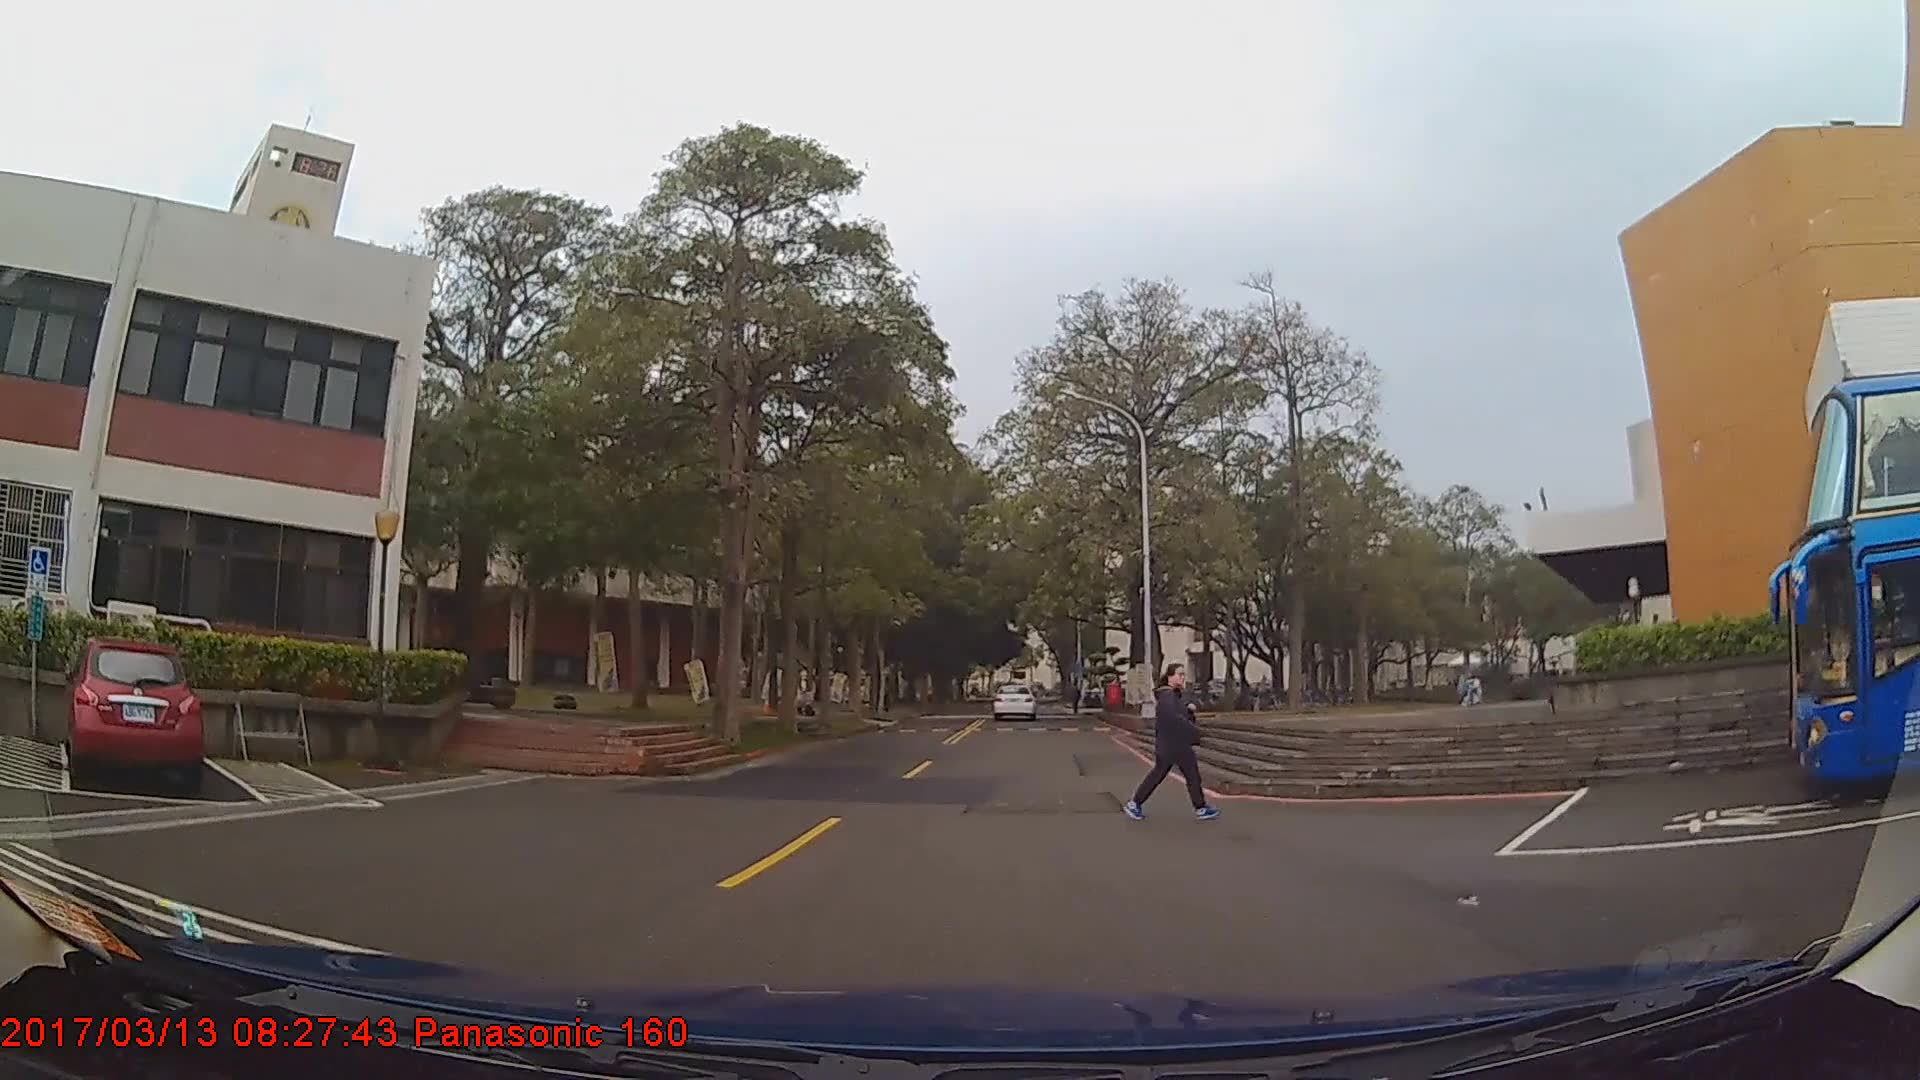pedestrian: (1131, 659, 1211, 822)
vehicle: (1785, 370, 1920, 802), (64, 635, 201, 790), (990, 680, 1033, 719)
